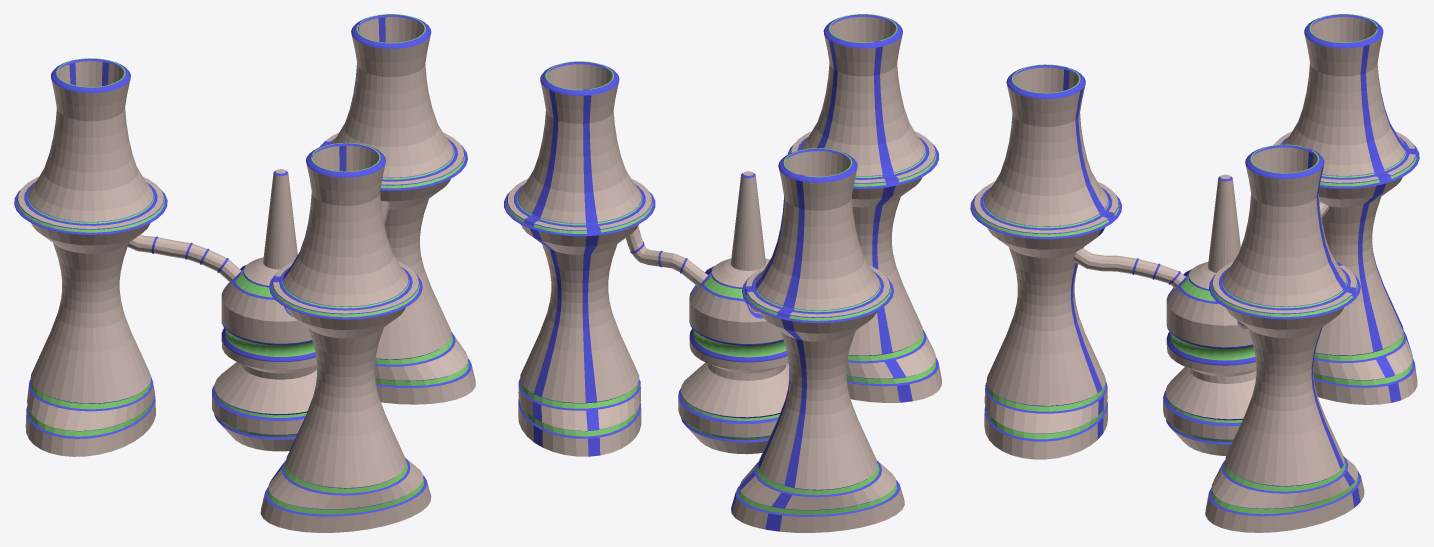
The model's file is Centrale_Nucleaire_XL.fbx.
3 renders of one model, left to right at view 1: azimuth 30°, elevation 25°; view 2: azimuth 150°, elevation 25°; view 3: azimuth 270°, elevation 25°, orthographic.
Parts seen in each view (by area): view 1: Cylinder.000; view 2: Cylinder.000; view 3: Cylinder.000.
Part boxes in pixels (<box>): Cylinder.000: <box>14,14,475,532</box>; Cylinder.000: <box>504,14,941,532</box>; Cylinder.000: <box>970,14,1419,532</box>.
Size of the model in its own units: 3840 by 3150 by 3731.
